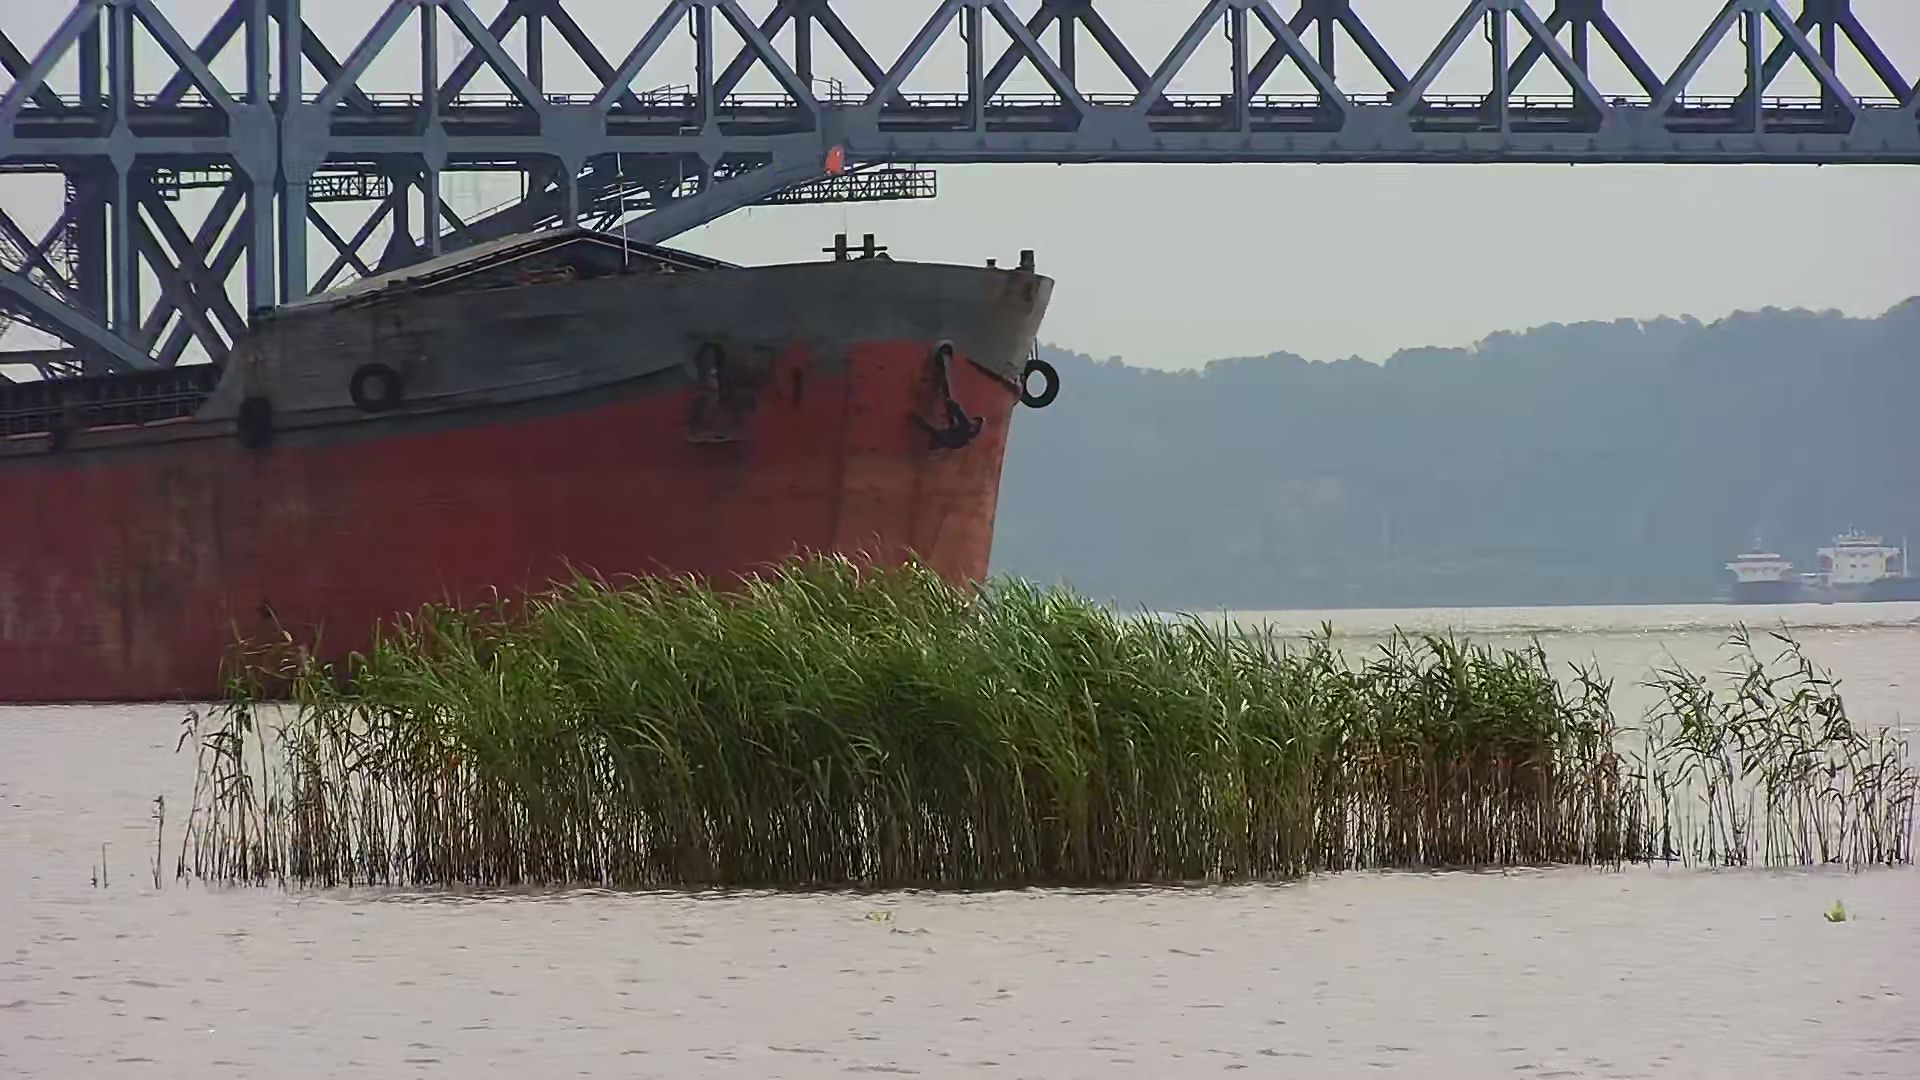bridge: (1, 1, 1920, 373)
grass: (161, 556, 1920, 898)
ship: (3, 152, 1055, 707)
